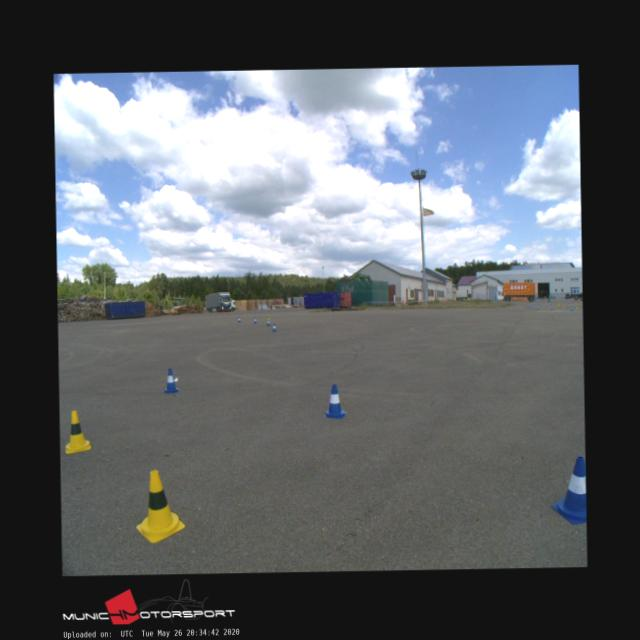blue_cone: (550, 456, 586, 524), (324, 384, 344, 418), (162, 368, 179, 392), (271, 323, 276, 332), (266, 318, 270, 326), (253, 316, 257, 324), (237, 316, 241, 322)
yellow_cone: (135, 470, 184, 543), (64, 410, 90, 452), (266, 314, 270, 320)
